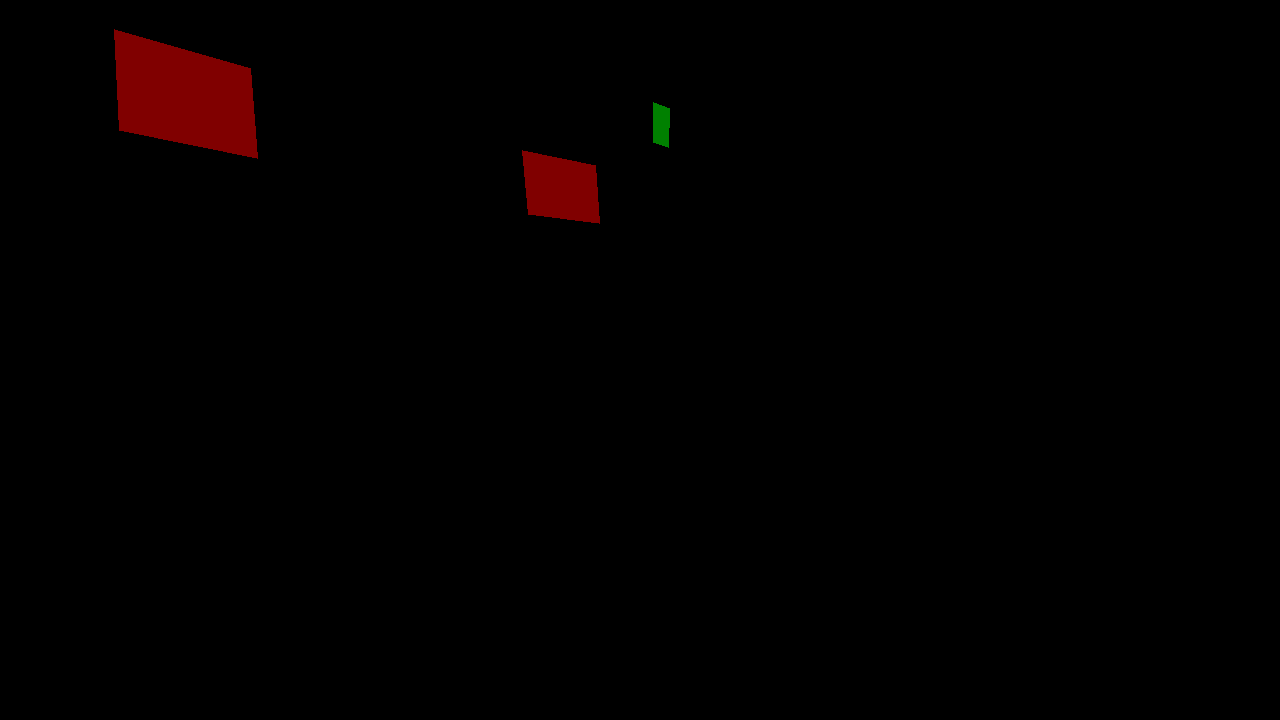sign: (653, 102, 669, 147)
tvmonitor: (114, 29, 257, 158), (522, 150, 599, 223)
